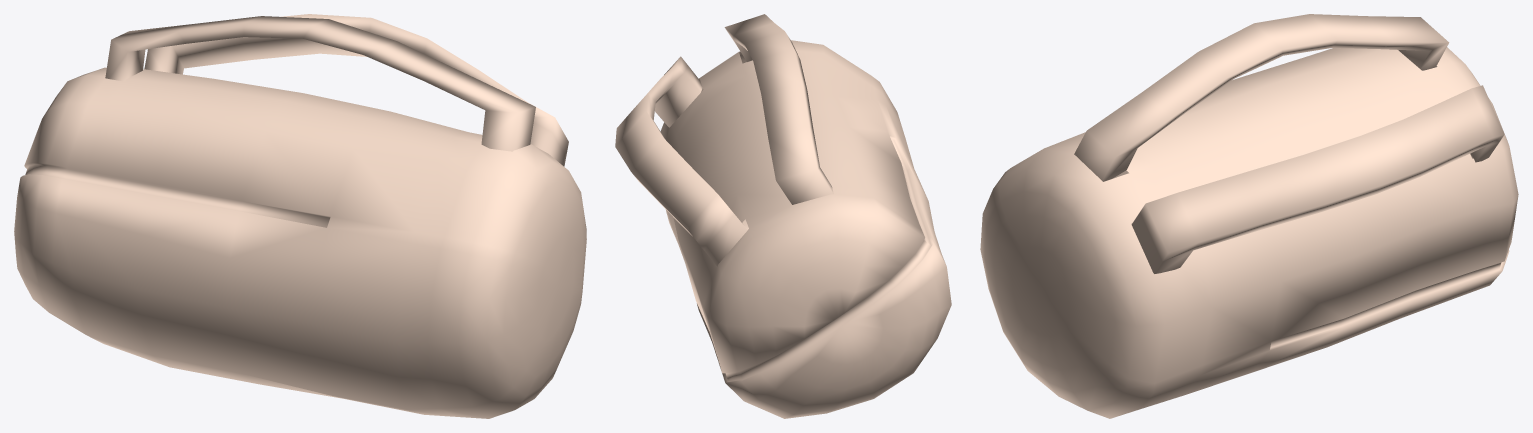
File: Zaino.obj
The picture shows the model from 3 angles, left to right: view 1: azimuth 30°, elevation 25°; view 2: azimuth 150°, elevation 25°; view 3: azimuth 270°, elevation 25°; orthographic projection. The views are drawn at different scales.
Visible parts, largest first — view 1: Zaino_Sphere.004; view 2: Zaino_Sphere.004; view 3: Zaino_Sphere.004.
Boxes of the visible parts, x1,y1,x2,y2 form: Zaino_Sphere.004: (14, 14, 586, 418); Zaino_Sphere.004: (615, 14, 951, 418); Zaino_Sphere.004: (980, 14, 1518, 418).
Bounding box in the file's own units: 1.65 × 1.22 × 1.79.
